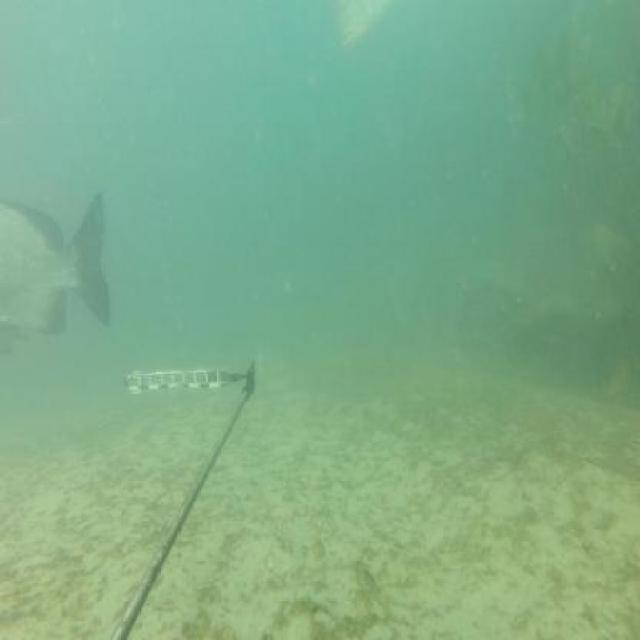acanthopagrus_palmaris: (0, 186, 114, 346)
